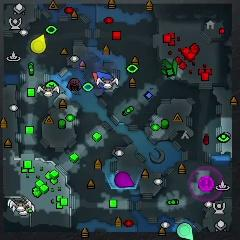Other: (199, 176, 214, 192)
p1: (96, 71, 113, 88)
p2: (178, 223, 193, 240)
p3: (115, 171, 133, 187)
p4: (31, 34, 46, 53)
p5: (92, 71, 99, 82)
x4: (161, 59, 178, 75)
